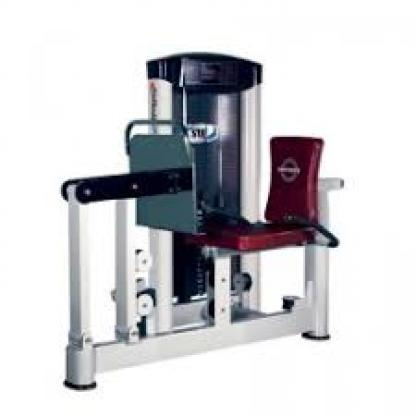leg press: (37, 32, 373, 390)
